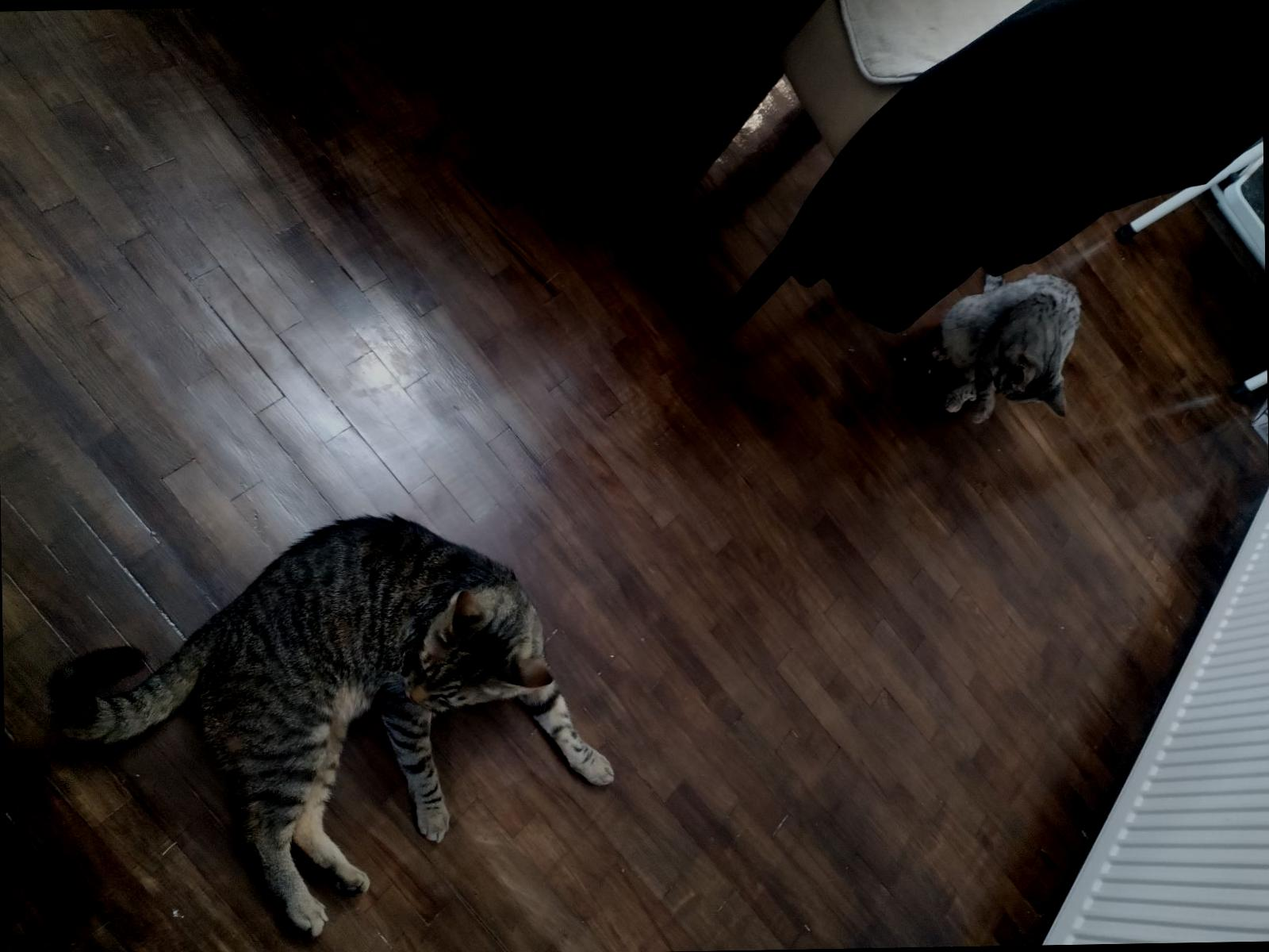macka: (44, 509, 614, 943), (924, 267, 1089, 430)
